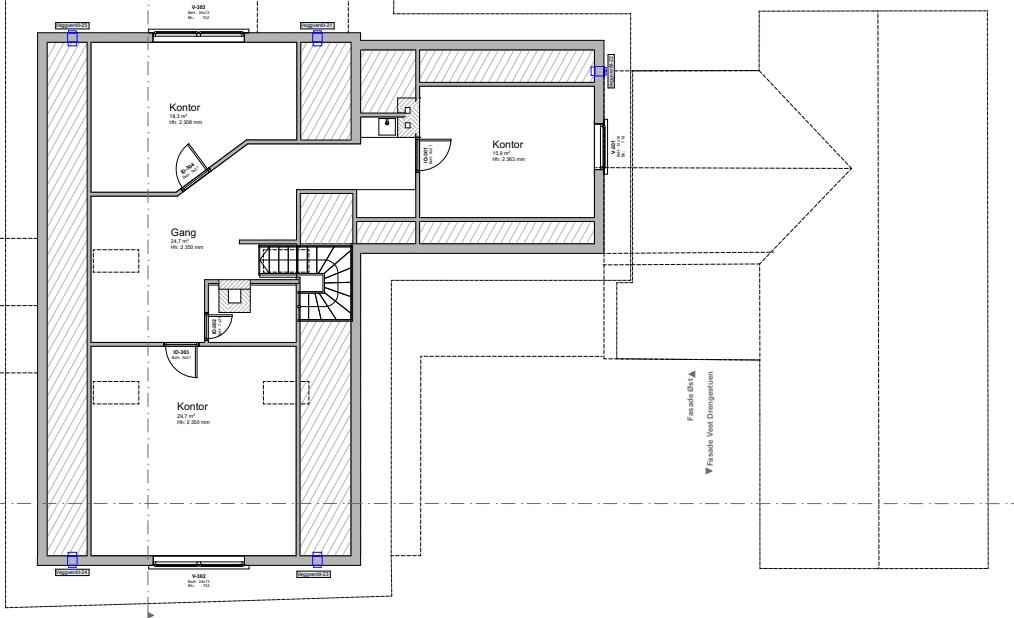room: (88, 343, 299, 560), (88, 40, 298, 195), (418, 83, 597, 220), (207, 281, 297, 344)
